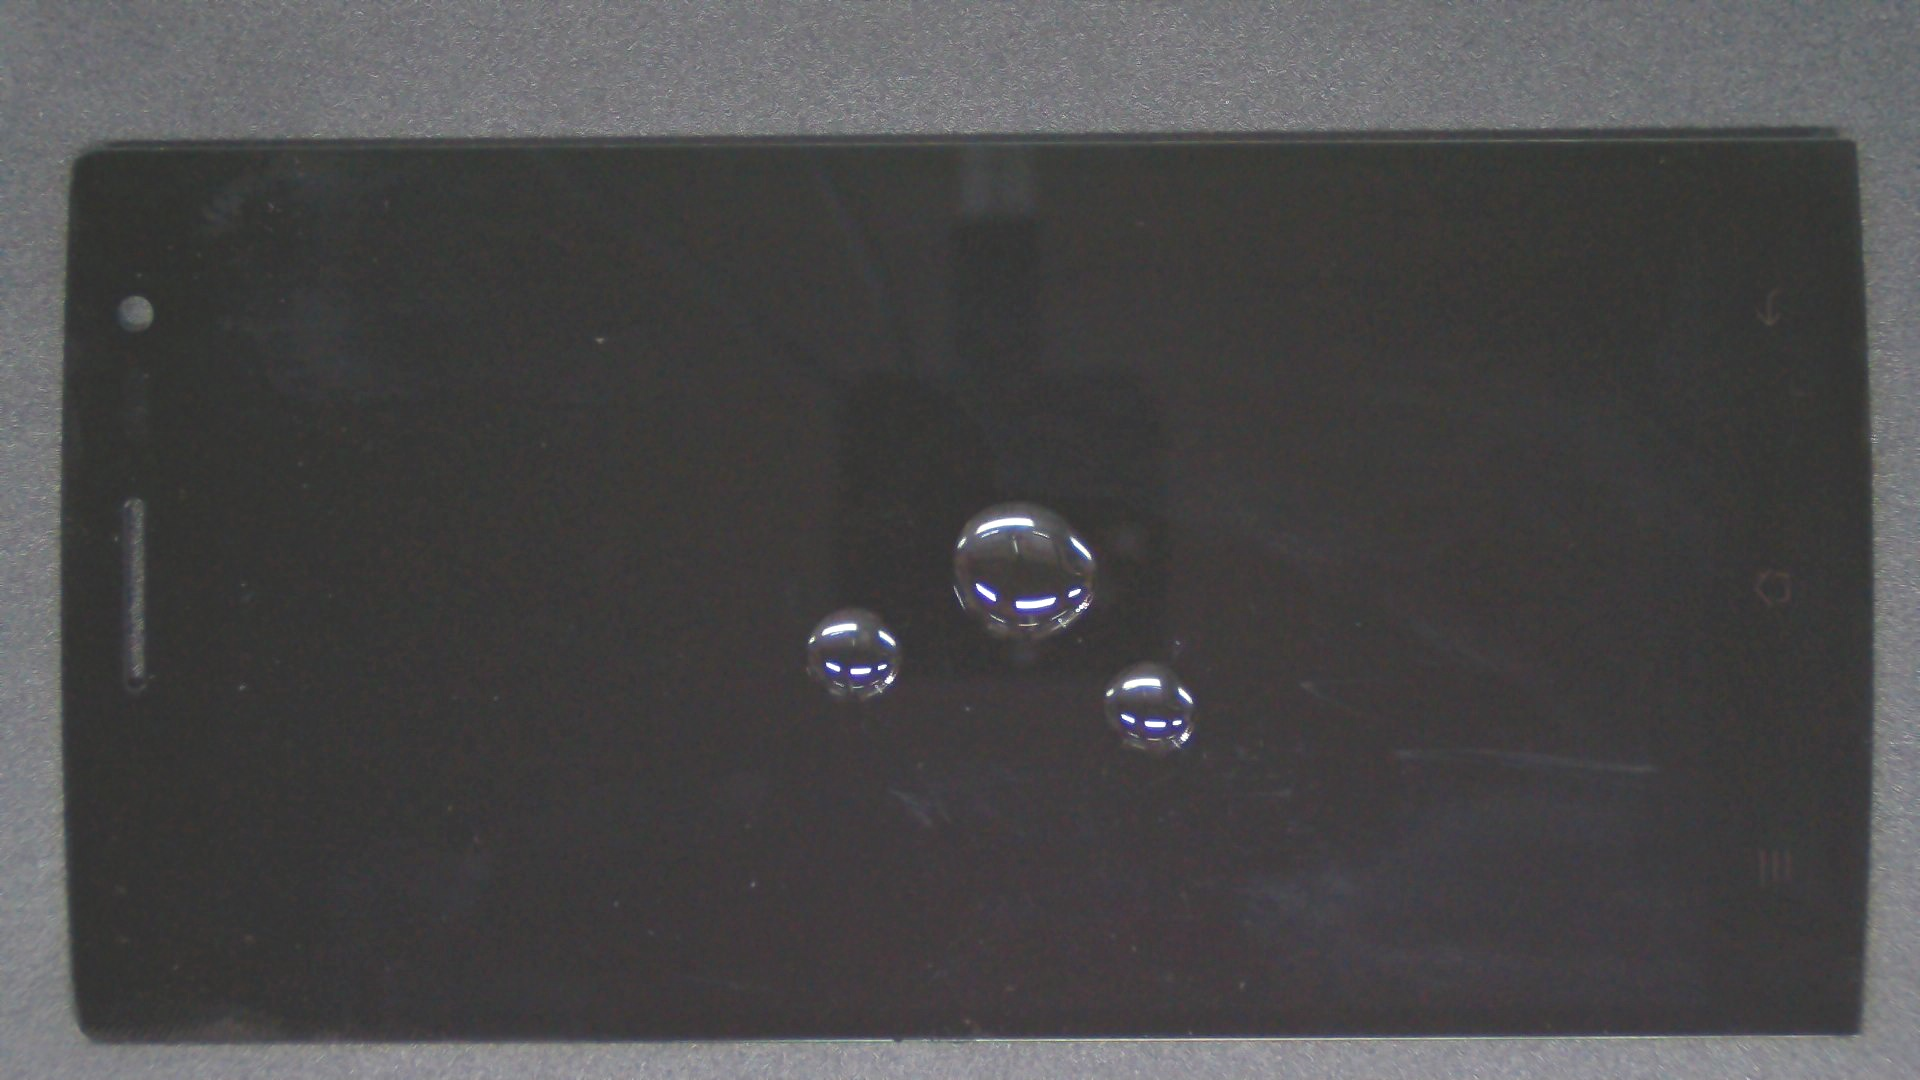oil: (574, 330, 1720, 992), (425, 303, 1271, 913), (502, 251, 1506, 753)
